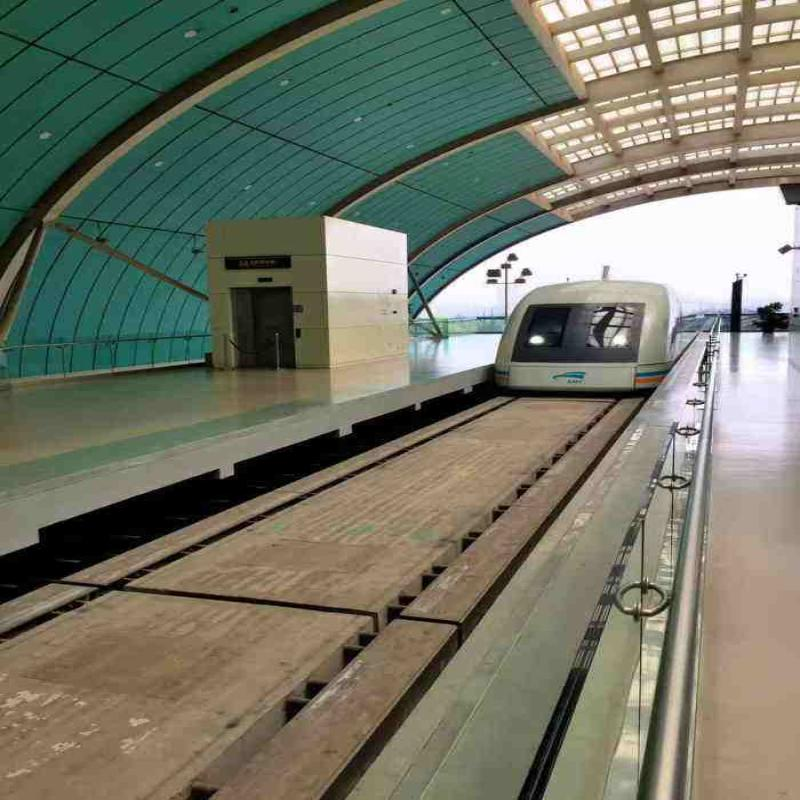train: (506, 274, 674, 405)
